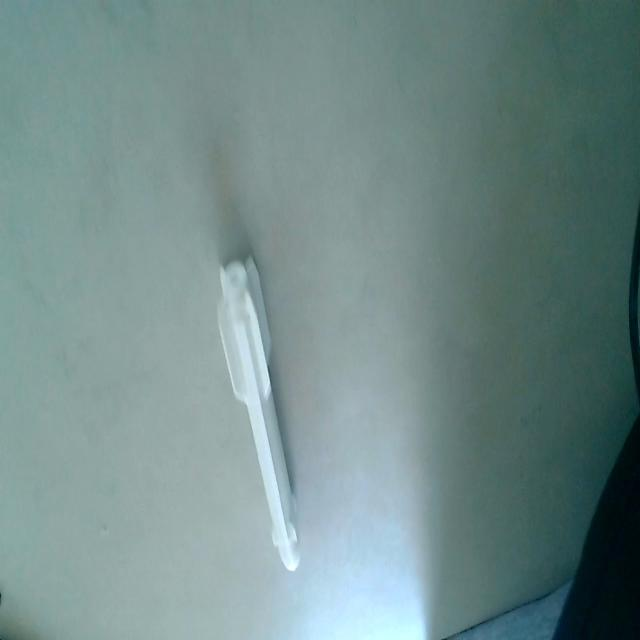Rocket: (215, 252, 303, 580)
